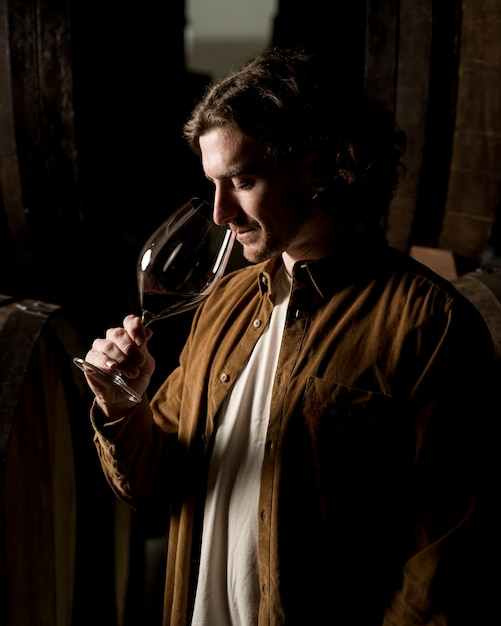alcohol: (69, 199, 247, 405)
